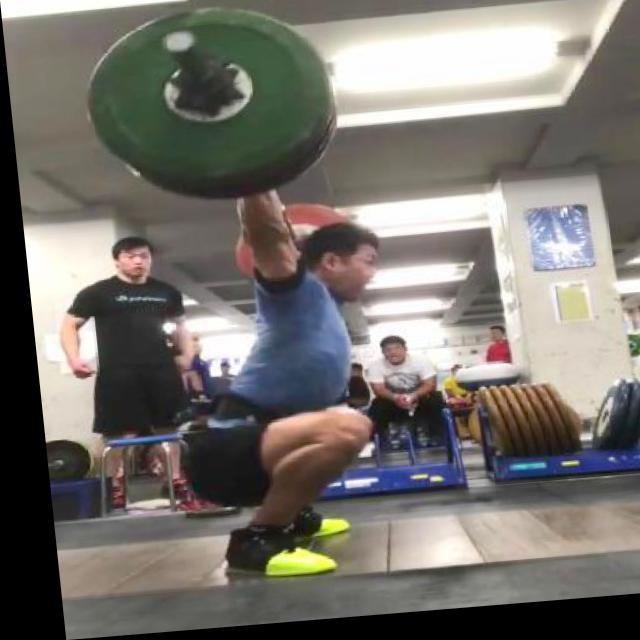barbell: (75, 1, 343, 211)
